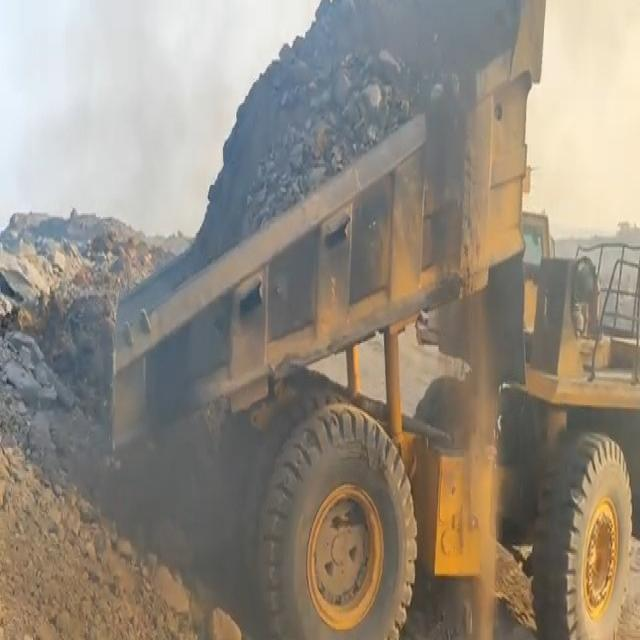dump_truck: (112, 0, 640, 640)
